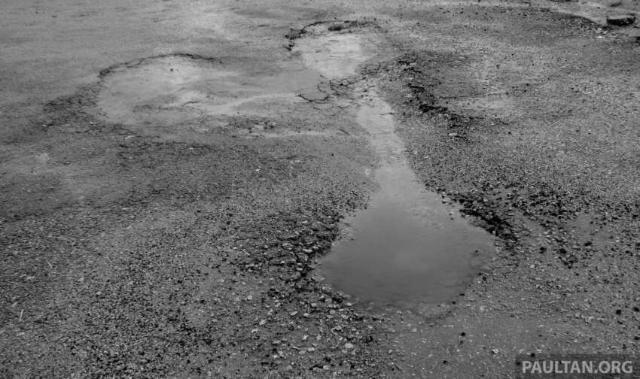Pothole: (298, 86, 534, 314), (87, 54, 327, 156), (294, 18, 394, 80)
